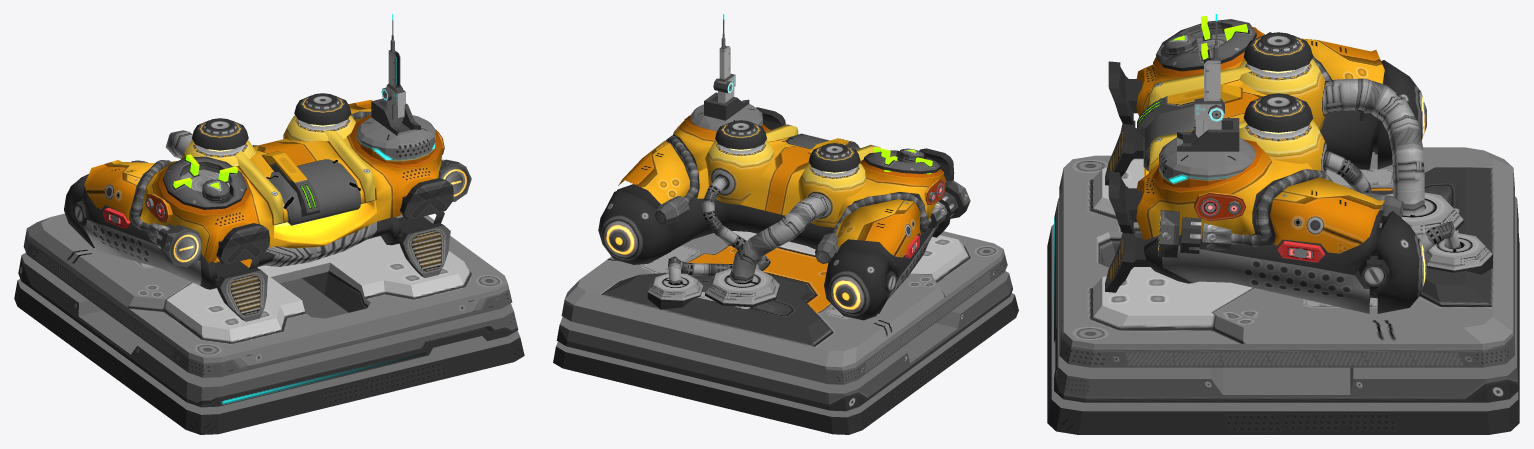
File: headquater-1.glb
The picture shows the model from 3 angles, left to right: view 1: azimuth 30°, elevation 25°; view 2: azimuth 150°, elevation 25°; view 3: azimuth 270°, elevation 25°; orthographic projection. The views are drawn at different scales.
Visible parts, largest first — view 1: Plane.011; view 2: Plane.011; view 3: Plane.011.
Boxes of the visible parts, x1,y1,x2,y2 form: Plane.011: (14, 14, 524, 434); Plane.011: (553, 14, 1018, 434); Plane.011: (1047, 14, 1519, 434).
Bounding box in the file's own units: 44.92 × 39.57 × 44.86.
Materials: 1 (1 with a texture image).
